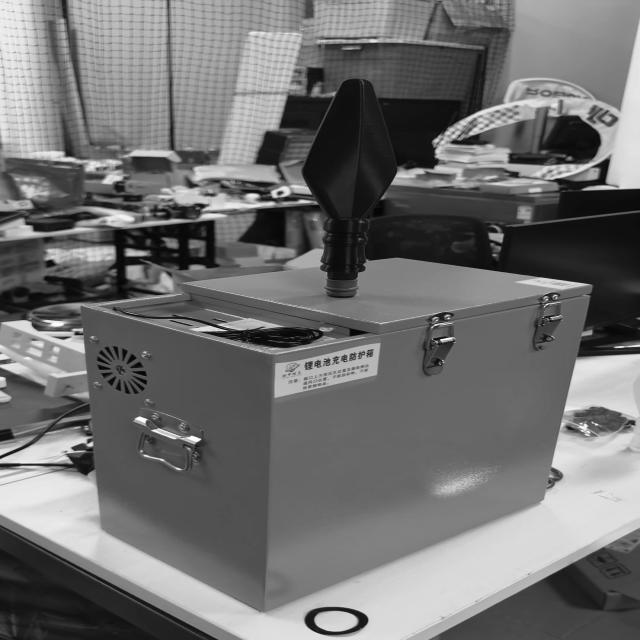base: (322, 276, 359, 299)
